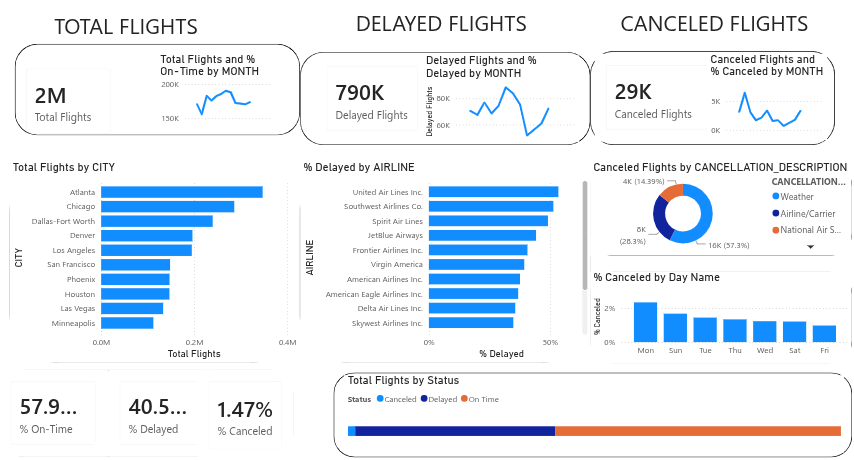

The page's visual inventory and layout, read from the dashboard file:
{"tool":"powerbi","page":{"name":"Page 1","canvas":[1280,720],"ordinal":0},"visuals":[{"type":"cardVisual","fields":{"Data":["flights.Total Flights"]},"box":[30.3,117.1,161.9,131.5],"z":0},{"type":"textbox","box":[84.9,41.8,308.7,66.4],"z":1000},{"type":"shape","box":[30.7,97.2,425.5,136.5],"z":2000},{"type":"lineChart","fields":{"Category":["flights.MONTH"],"Y":["flights.Total Flights"]},"box":[243.5,111.9,174.6,113.1],"z":3000},{"type":"textbox","box":[535,38.1,301.3,66.4],"z":4000},{"type":"shape","box":[456.3,108.2,432.9,139],"z":5000},{"type":"cardVisual","fields":{"Data":["flights.Delayed Flights"]},"box":[479.7,113.1,171,131.6],"z":6000},{"type":"lineChart","fields":{"Category":["flights.MONTH"],"Y":["flights.Delayed Flights"]},"box":[639.5,114.4,233.7,129.1],"z":7000},{"type":"shape","box":[889.2,107,365.3,140.2],"z":8000},{"type":"cardVisual","fields":{"Data":["flights.Canceled Flights"]},"box":[912.6,111.9,179.6,131.6],"z":9000},{"type":"lineChart","fields":{"Category":["flights.MONTH"],"Y":["flights.Canceled Flights"]},"box":[1063.8,111.9,178.3,129.1],"z":10000},{"type":"textbox","box":[929.8,38.1,307.5,59],"z":11000},{"type":"shape","box":[23.4,274.3,432.9,298.9],"z":12000},{"type":"shape","box":[456.3,274.3,432.9,298.9],"z":13000},{"type":"shape","box":[889.2,275.5,391.1,137.7],"z":14000},{"type":"shape","box":[13.5,583,432.9,130.4],"z":15000},{"type":"cardVisual","fields":{"Data":["flights.% On-Time"]},"box":[8.6,590.3,161.1,115.6],"z":16000},{"type":"cardVisual","fields":{"Data":["flights.% Delayed"]},"box":[169.7,590.3,161.1,115.6],"z":17000},{"type":"cardVisual","fields":{"Data":["flights.% Canceled"]},"box":[302.6,586.7,143.9,123],"z":18000},{"type":"clusteredBarChart","fields":{"Category":["airports.CITY"],"Y":["flights.Total Flights"]},"box":[93.5,273,300.1,300.1],"z":19000},{"type":"clusteredBarChart","fields":{"Category":["airlines.AIRLINE"],"Y":["flights.% Delayed"]},"box":[522.7,273,300.1,300.1],"z":20000},{"type":"shape","box":[889.2,436.6,391.1,136.5],"z":21000},{"type":"donutChart","fields":{"Category":["cancellation_codes.CANCELLATION_DESCRIPTION"],"Y":["flights.Canceled Flights"]},"box":[954.4,273,300.1,140.2],"z":22000},{"type":"columnChart","fields":{"Category":["flights.DAY_OF_WEEK"],"Y":["flights.% Canceled"]},"box":[942.1,436.6,300.1,136.5],"z":22001},{"type":"shape","box":[506.7,586.7,773.6,126.7],"z":22002},{"type":"hundredPercentStackedBarChart","fields":{"Series":["flights.Status"],"Y":["flights.Total Flights"]},"box":[522.7,590.3,745.3,115.6],"z":22003}]}

Visuals, with their boxes on the page's 1280x720 design canvas (x1, y1, x2, y2). These are canvas units, not pixel positions in the 854x460 screenshot, which may show the page scaled, cropped or inside an application window:
cardVisual - flights.Total Flights: 30,117,192,249
textbox: 85,42,394,108
shape: 31,97,456,234
lineChart - flights.MONTH x flights.Total Flights: 244,112,418,225
textbox: 535,38,836,104
shape: 456,108,889,247
cardVisual - flights.Delayed Flights: 480,113,651,245
lineChart - flights.MONTH x flights.Delayed Flights: 640,114,873,244
shape: 889,107,1254,247
cardVisual - flights.Canceled Flights: 913,112,1092,244
lineChart - flights.MONTH x flights.Canceled Flights: 1064,112,1242,241
textbox: 930,38,1237,97
shape: 23,274,456,573
shape: 456,274,889,573
shape: 889,276,1280,413
shape: 14,583,446,713
cardVisual - flights.% On-Time: 9,590,170,706
cardVisual - flights.% Delayed: 170,590,331,706
cardVisual - flights.% Canceled: 303,587,446,710
clusteredBarChart - airports.CITY x flights.Total Flights: 94,273,394,573
clusteredBarChart - airlines.AIRLINE x flights.% Delayed: 523,273,823,573
shape: 889,437,1280,573
donutChart - cancellation_codes.CANCELLATION_DESCRIPTION x flights.Canceled Flights: 954,273,1254,413
columnChart - flights.DAY_OF_WEEK x flights.% Canceled: 942,437,1242,573
shape: 507,587,1280,713
hundredPercentStackedBarChart - flights.Status x flights.Total Flights: 523,590,1268,706
